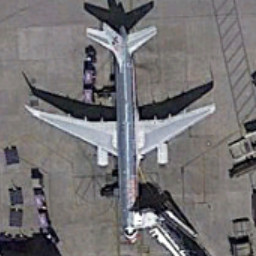Airplane: (17, 15, 231, 248)
